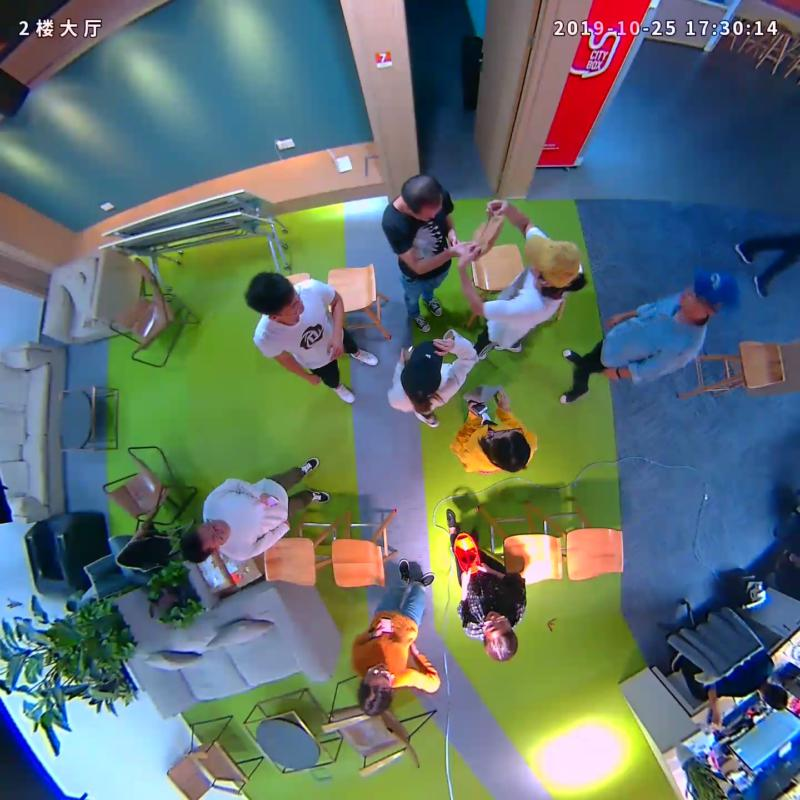head: (525, 233, 581, 291), (243, 271, 304, 323), (679, 269, 737, 320), (399, 340, 445, 400), (180, 517, 231, 564), (356, 664, 394, 717), (401, 174, 444, 220), (481, 609, 518, 662), (489, 427, 531, 473)
